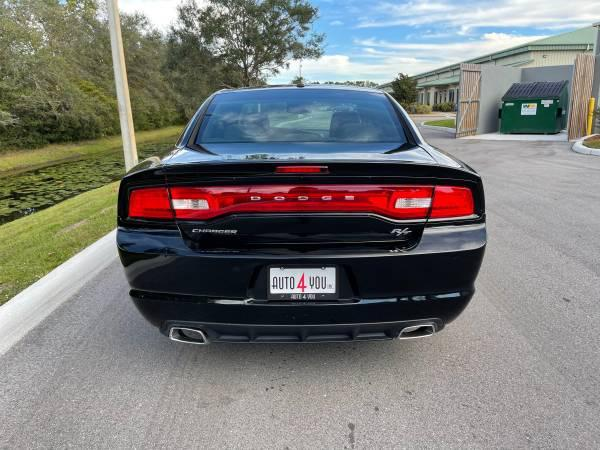Left_Taillight: (113, 176, 174, 227)
Rear_Bumper: (117, 219, 486, 346)
Rear_Windshield: (181, 87, 420, 147)
Right_Taillight: (425, 172, 485, 228)
Tailgate: (126, 143, 474, 254)
